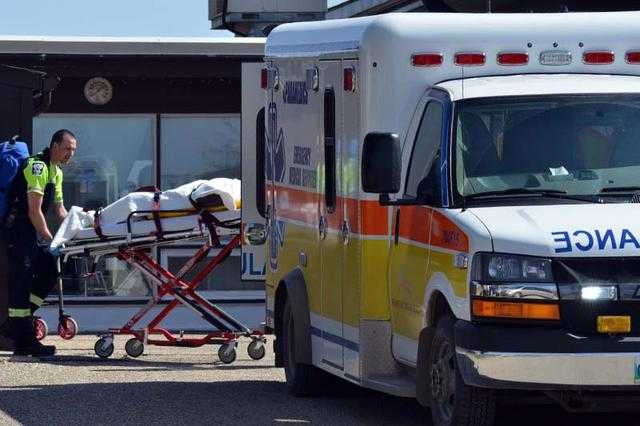Ambulance: (212, 6, 640, 426)
